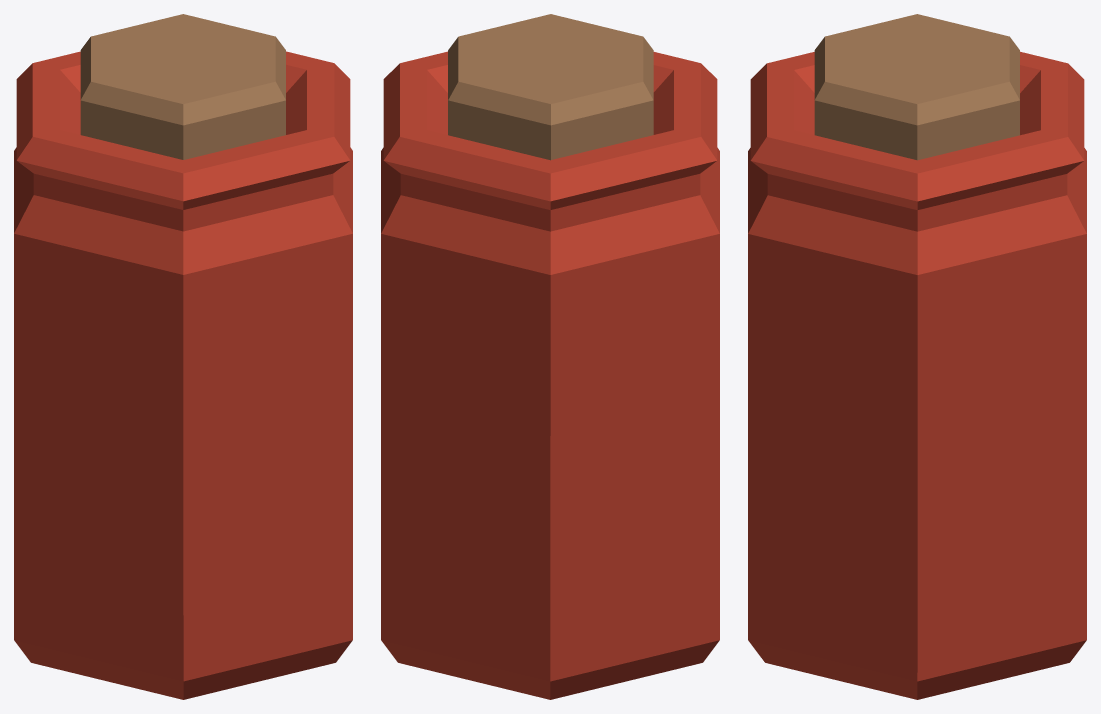
File: Red_Potion_2.fbx
3 renders of one model, left to right at view 1: azimuth 30°, elevation 25°; view 2: azimuth 150°, elevation 25°; view 3: azimuth 270°, elevation 25°, orthographic.
Parts seen in each view (by area): view 1: Red_Potion_2; view 2: Red_Potion_2; view 3: Red_Potion_2.
Part boxes in pixels (x1,y1,x2,y2): Red_Potion_2: [14, 14, 352, 699]; Red_Potion_2: [381, 14, 719, 699]; Red_Potion_2: [748, 14, 1086, 699].
Size of the model in its own units: 23.02 by 36.77 by 19.94.
